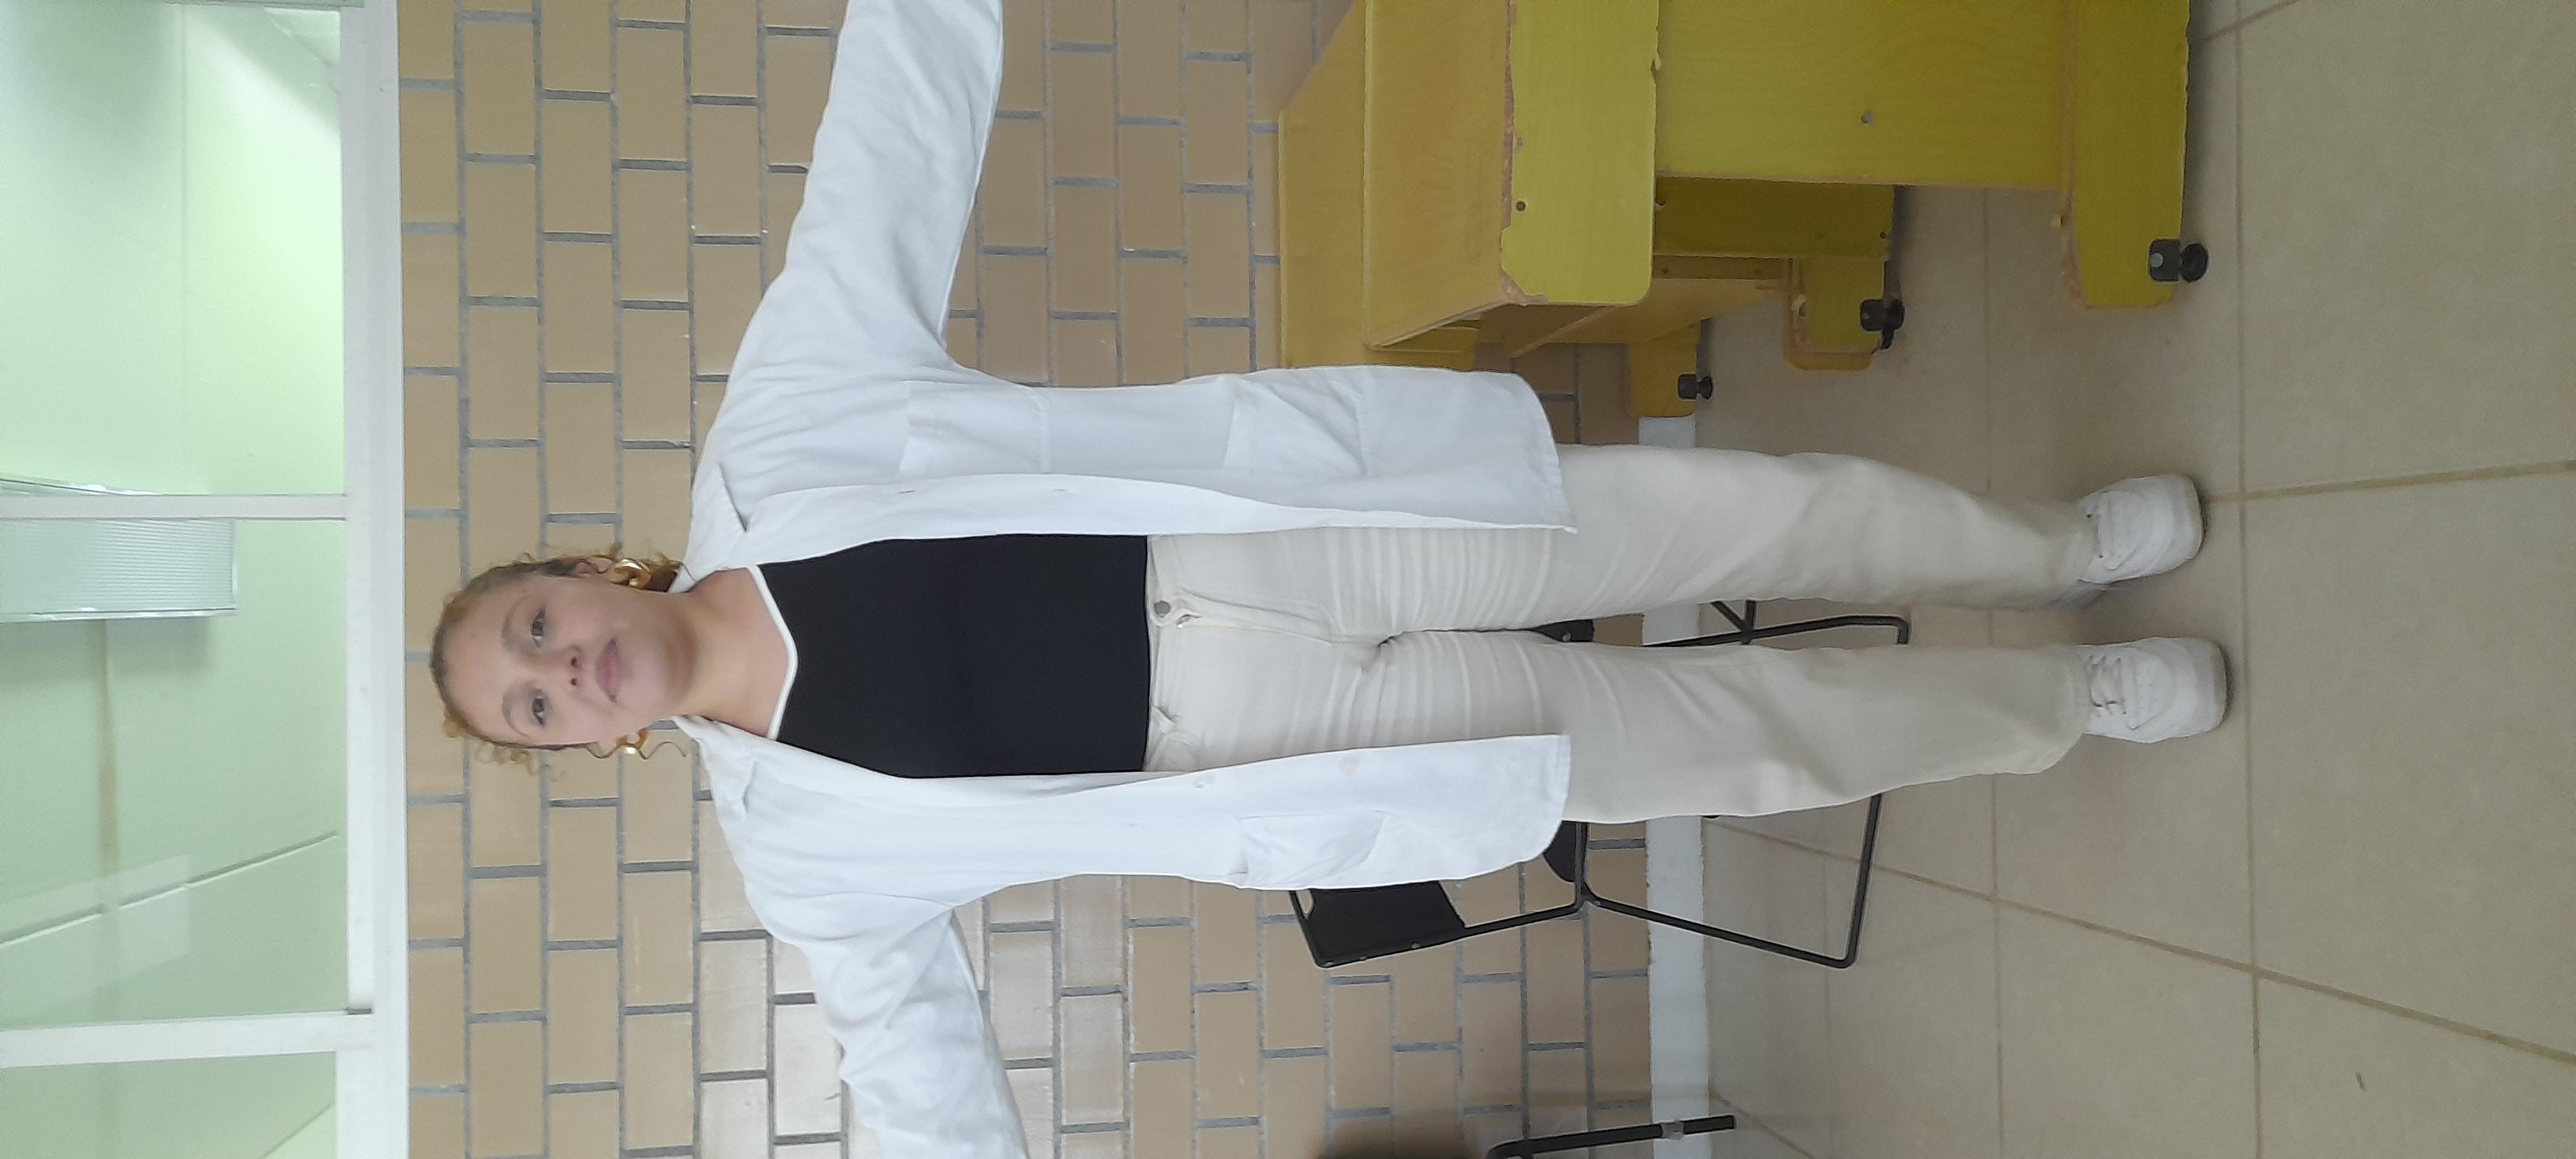Bata-Incorrecta: (15, 171, 2576, 1011)
